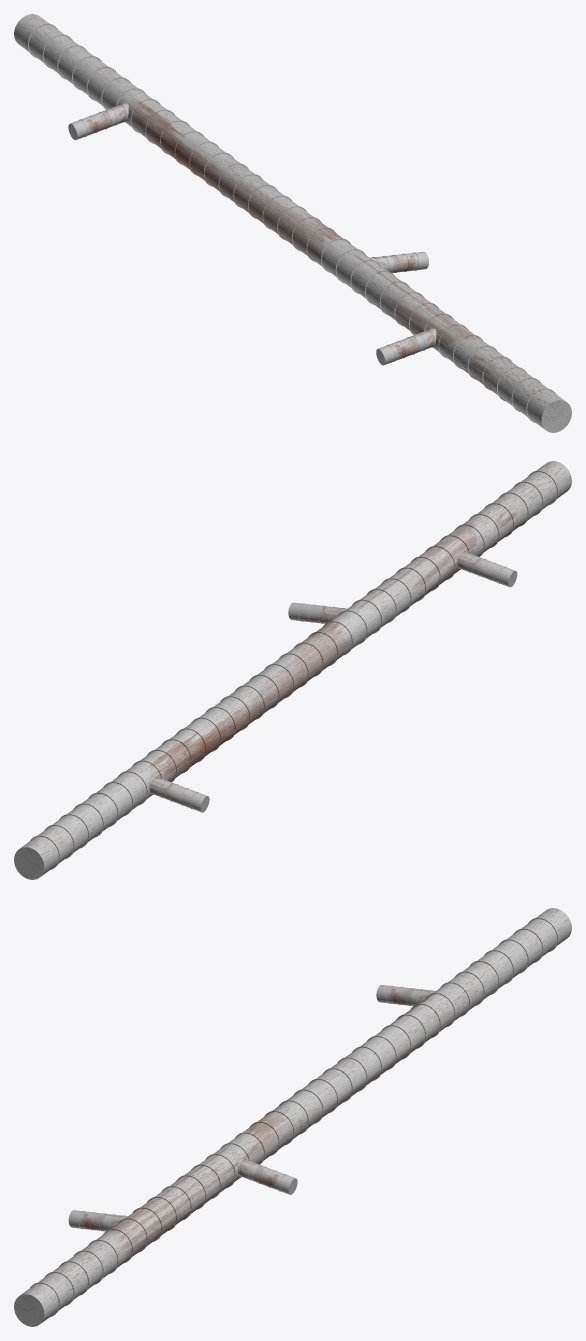
Rendered from DuctFinal.fbx.
3 views of the same model, one above another, from view 1: azimuth 30°, elevation 25°; view 2: azimuth 150°, elevation 25°; view 3: azimuth 330°, elevation 25° (orthographic).
Parts seen in each view (by area): view 1: Cylinder, Cylinder.001, Cylinder.002, Cylinder.003; view 2: Cylinder, Cylinder.002, Cylinder.001, Cylinder.003; view 3: Cylinder, Cylinder.003, Cylinder.002, Cylinder.001.
Boxes of the visible parts, bbox=[...] form: Cylinder: bbox=[14, 14, 571, 432]; Cylinder.001: bbox=[68, 103, 128, 140]; Cylinder.002: bbox=[376, 328, 436, 365]; Cylinder.003: bbox=[370, 252, 428, 272]; Cylinder: bbox=[14, 461, 571, 879]; Cylinder.002: bbox=[457, 550, 517, 587]; Cylinder.001: bbox=[149, 775, 209, 812]; Cylinder.003: bbox=[288, 602, 346, 623]; Cylinder: bbox=[14, 908, 571, 1326]; Cylinder.003: bbox=[237, 1158, 297, 1194]; Cylinder.002: bbox=[68, 1210, 127, 1231]; Cylinder.001: bbox=[376, 985, 435, 1006].
Size of the model in its own units: 2.2 by 0.5312 by 15.
Materials: 1 (1 with a texture image).
